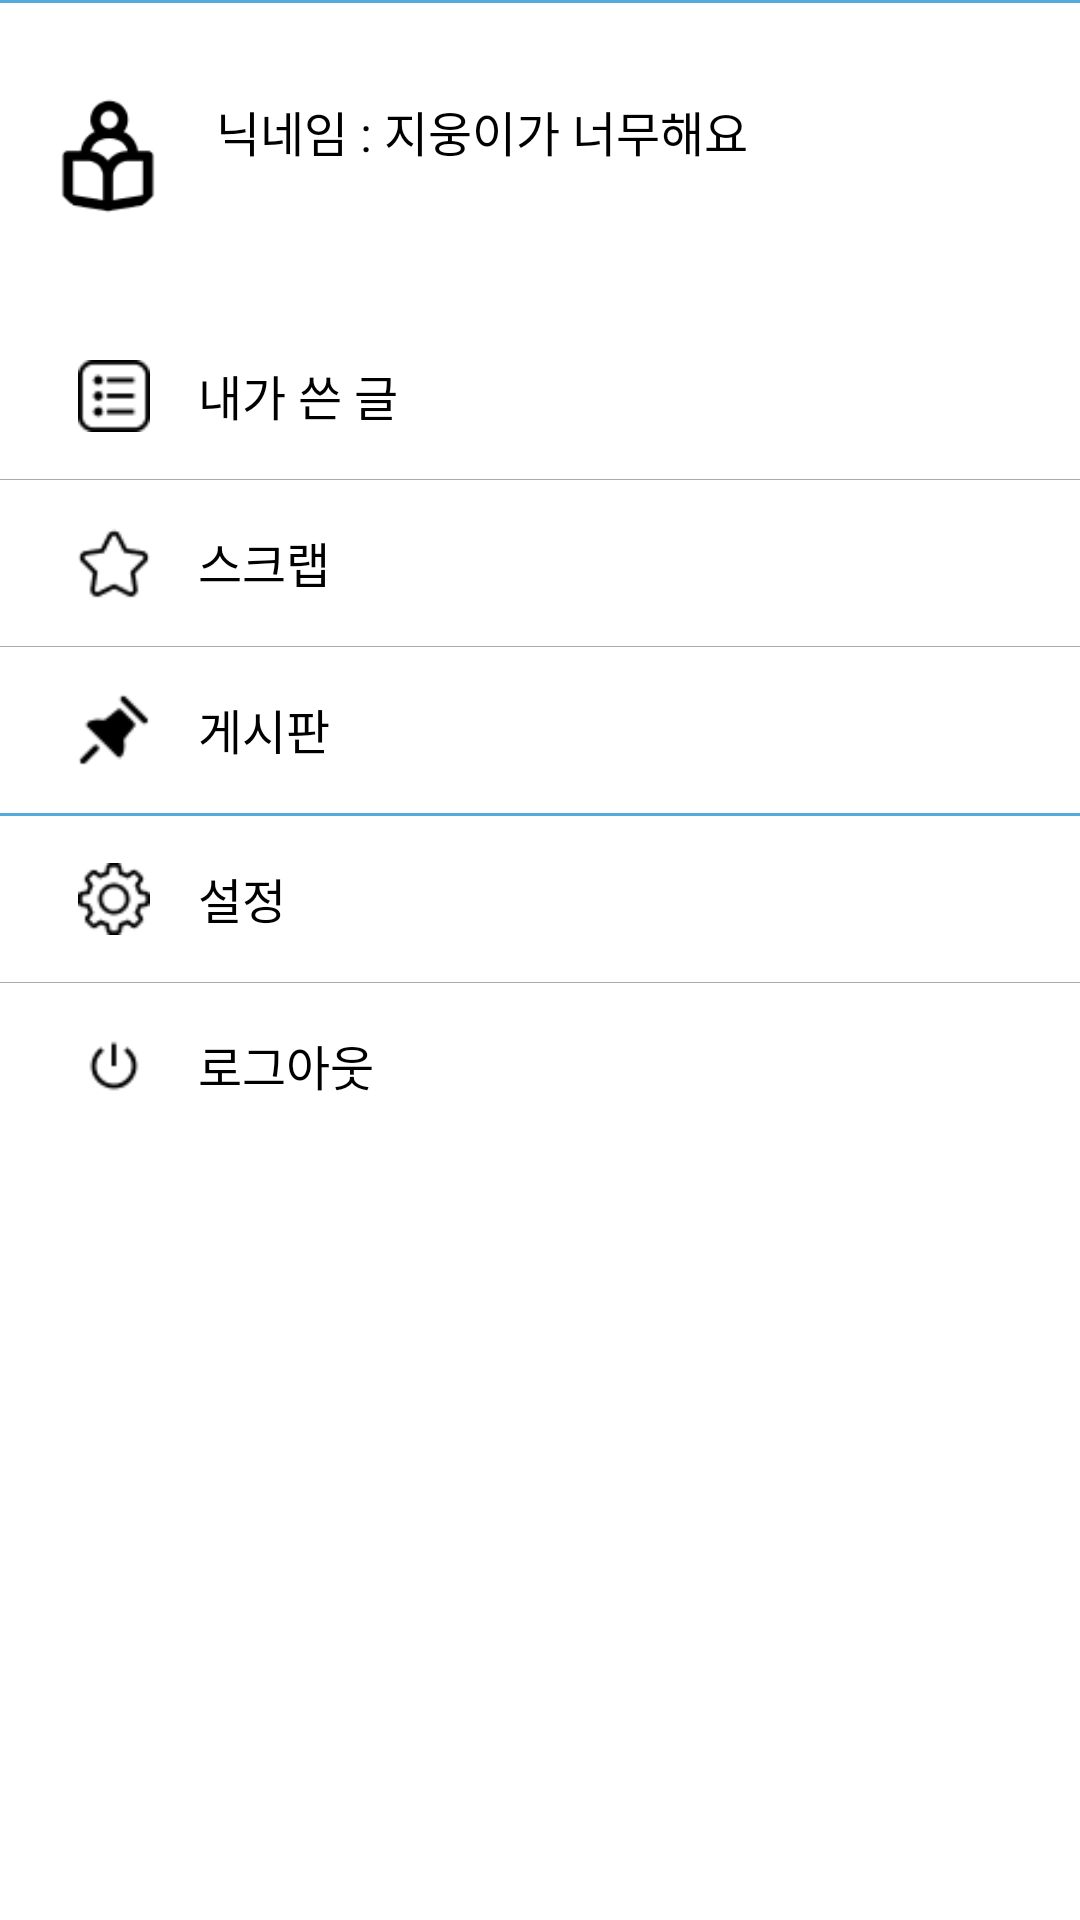

Point at icon controls on the screen. Image size 1080*1920, points as (x=x, y=y).
프로필 이미지: (x=108, y=156)
